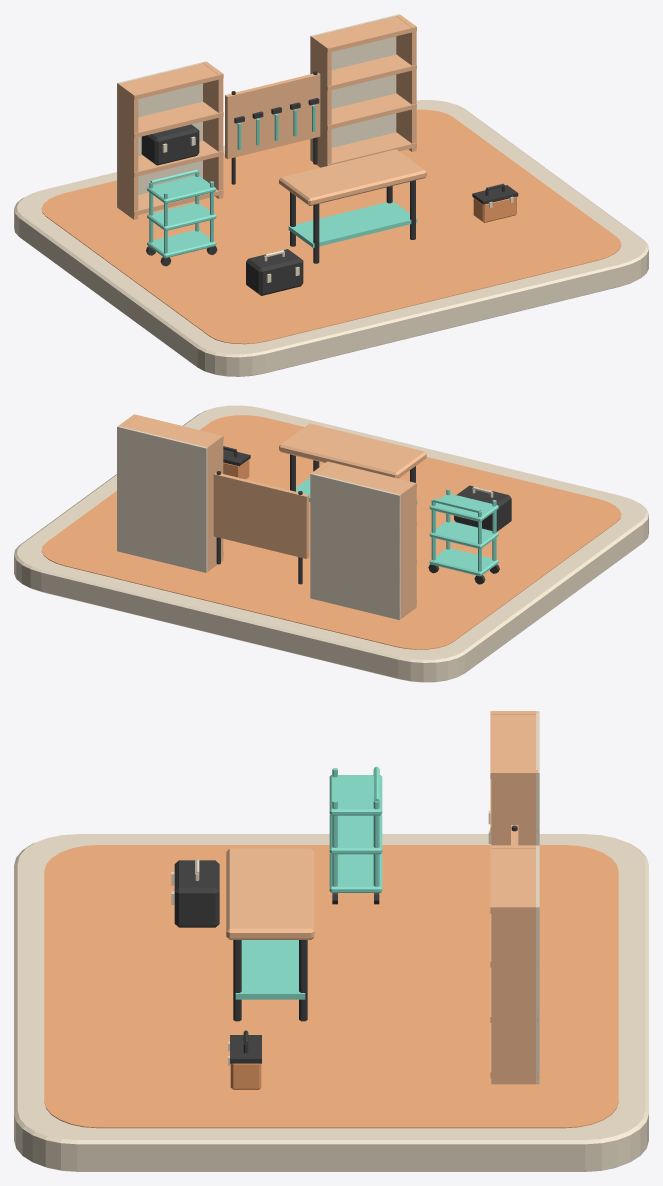
The picture shows the model from 3 angles, top to bottom: view 1: azimuth 30°, elevation 25°; view 2: azimuth 150°, elevation 25°; view 3: azimuth 270°, elevation 25°; orthographic projection. The views are drawn at different scales.
Visible parts, largest first — view 1: COM-02 Floor Surface, COM-01 Rounded Base Direct, Peg board, Worktop, Back.001, Lower shelf, Back, Side, Case, Side.003, Side.001, Shelf.003 (+13 smaller); view 2: COM-02 Floor Surface, COM-01 Rounded Base Direct, Back.001, Back, Peg board, Worktop, Side, Shelf.003, Shelf.007, Side.002, Case, Tray.001 (+2 smaller); view 3: COM-02 Floor Surface, COM-01 Rounded Base Direct, Worktop, Side.003, Lower shelf, Case, Shelf.003, Shelf.007, Side.001, Tray.002, Tray.001, Tray (+5 smaller).
Part boxes in pixels (x1=…): COM-02 Floor Surface: x1=41, y1=109, x2=621, y2=344; COM-01 Rounded Base Direct: x1=14, y1=100, x2=648, y2=376; Peg board: x1=225, y1=72, x2=320, y2=159; Worktop: x1=279, y1=149, x2=426, y2=205; Back.001: x1=310, y1=14, x2=399, y2=160; Lower shelf: x1=288, y1=201, x2=417, y2=247; Back: x1=117, y1=61, x2=207, y2=207; Side: x1=118, y1=83, x2=138, y2=219; Case: x1=246, y1=249, x2=303, y2=295; Side.003: x1=396, y1=15, x2=416, y2=151; Side.001: x1=203, y1=61, x2=223, y2=198; Shelf.003: x1=118, y1=63, x2=223, y2=99; COM-02 Floor Surface: x1=41, y1=415, x2=621, y2=649; COM-01 Rounded Base Direct: x1=14, y1=405, x2=648, y2=682; Back.001: x1=117, y1=426, x2=207, y2=572; Back: x1=310, y1=473, x2=400, y2=619; Peg board: x1=213, y1=472, x2=309, y2=558; Worktop: x1=279, y1=423, x2=426, y2=478; Side: x1=397, y1=482, x2=416, y2=618; Shelf.003: x1=316, y1=461, x2=416, y2=499; Shelf.007: x1=123, y1=414, x2=223, y2=451; Side.002: x1=203, y1=435, x2=223, y2=571; Case: x1=454, y1=485, x2=511, y2=531; Tray.001: x1=429, y1=521, x2=498, y2=549; COM-02 Floor Surface: x1=44, y1=845, x2=618, y2=1128; COM-01 Rounded Base Direct: x1=14, y1=834, x2=648, y2=1171; Worktop: x1=226, y1=848, x2=314, y2=939; Side.003: x1=491, y1=904, x2=537, y2=1084; Lower shelf: x1=235, y1=940, x2=305, y2=999; Case: x1=174, y1=860, x2=219, y2=927; Shelf.003: x1=490, y1=711, x2=538, y2=779; Shelf.007: x1=490, y1=845, x2=536, y2=913; Side.001: x1=491, y1=770, x2=537, y2=845; Tray.002: x1=329, y1=775, x2=382, y2=815; Tray.001: x1=329, y1=814, x2=382, y2=854; Tray: x1=329, y1=853, x2=382, y2=892.
Size of the model in its own units: 6 by 1.9 by 5.2.
1 material, 1 textured.
